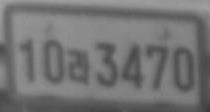0: (173, 46, 195, 92), (42, 40, 64, 84)
1: (17, 38, 39, 81)
3: (94, 41, 118, 86)
4: (120, 42, 144, 90)
7: (145, 43, 168, 89)
라: (66, 47, 92, 85)
